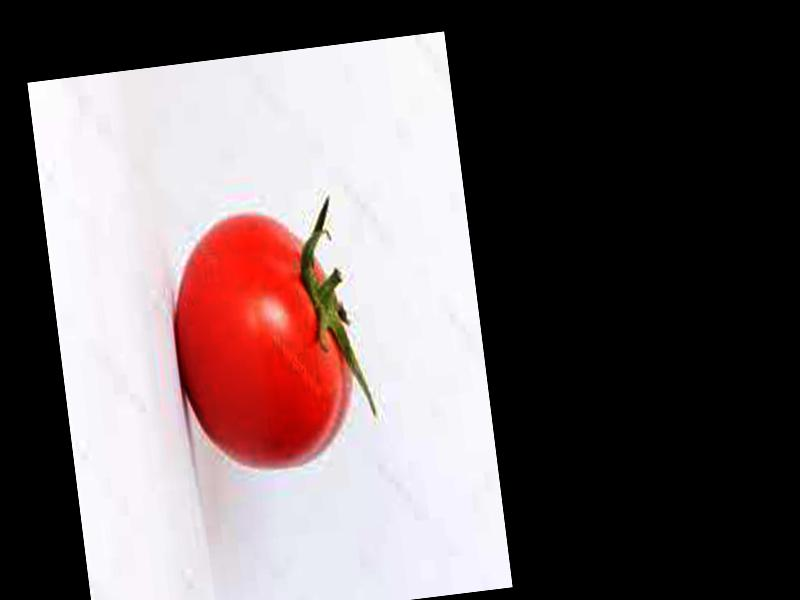Tomato: (160, 205, 360, 482)
